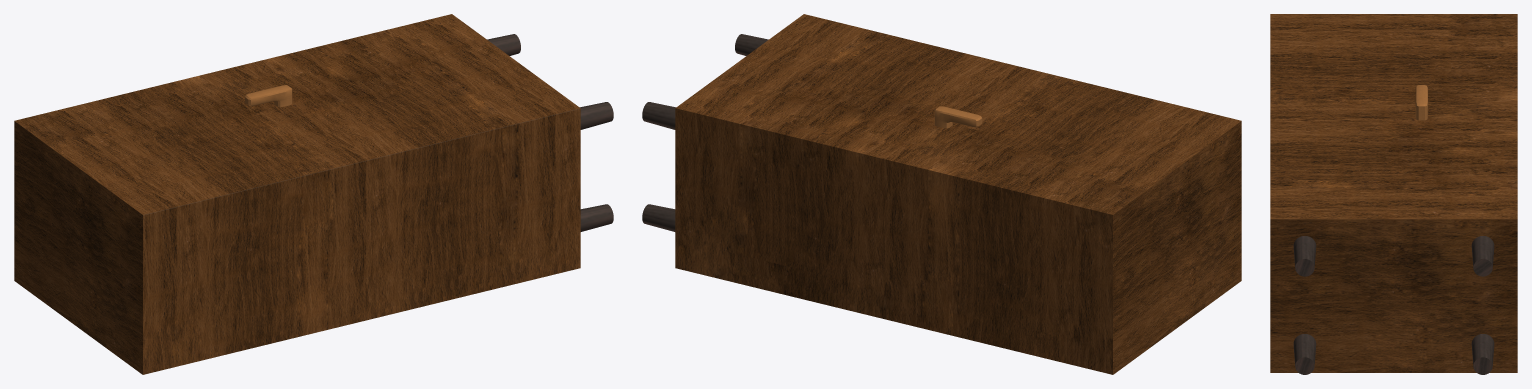
File: SM_closet_A.fbx
3 renders of one model, left to right at view 1: azimuth 30°, elevation 25°; view 2: azimuth 150°, elevation 25°; view 3: azimuth 270°, elevation 25°, orthographic. The views are drawn at different scales.
Parts seen in each view (by area): view 1: SM_closet_A; view 2: SM_closet_A; view 3: SM_closet_A.
Boxes of the visible parts, <box> form: SM_closet_A: <box>14,14,613,374</box>; SM_closet_A: <box>642,14,1241,374</box>; SM_closet_A: <box>1270,14,1517,374</box>.
Bounding box in the file's own units: 633 × 221 × 292.
